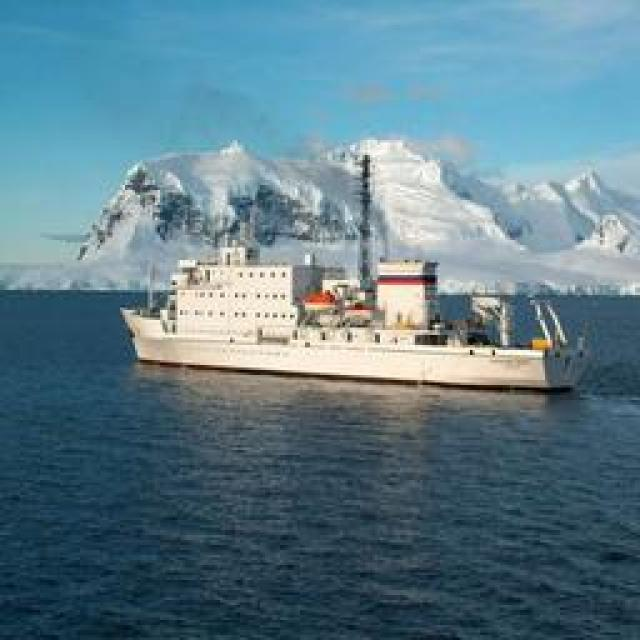CIV_Ship: (136, 241, 586, 394)
